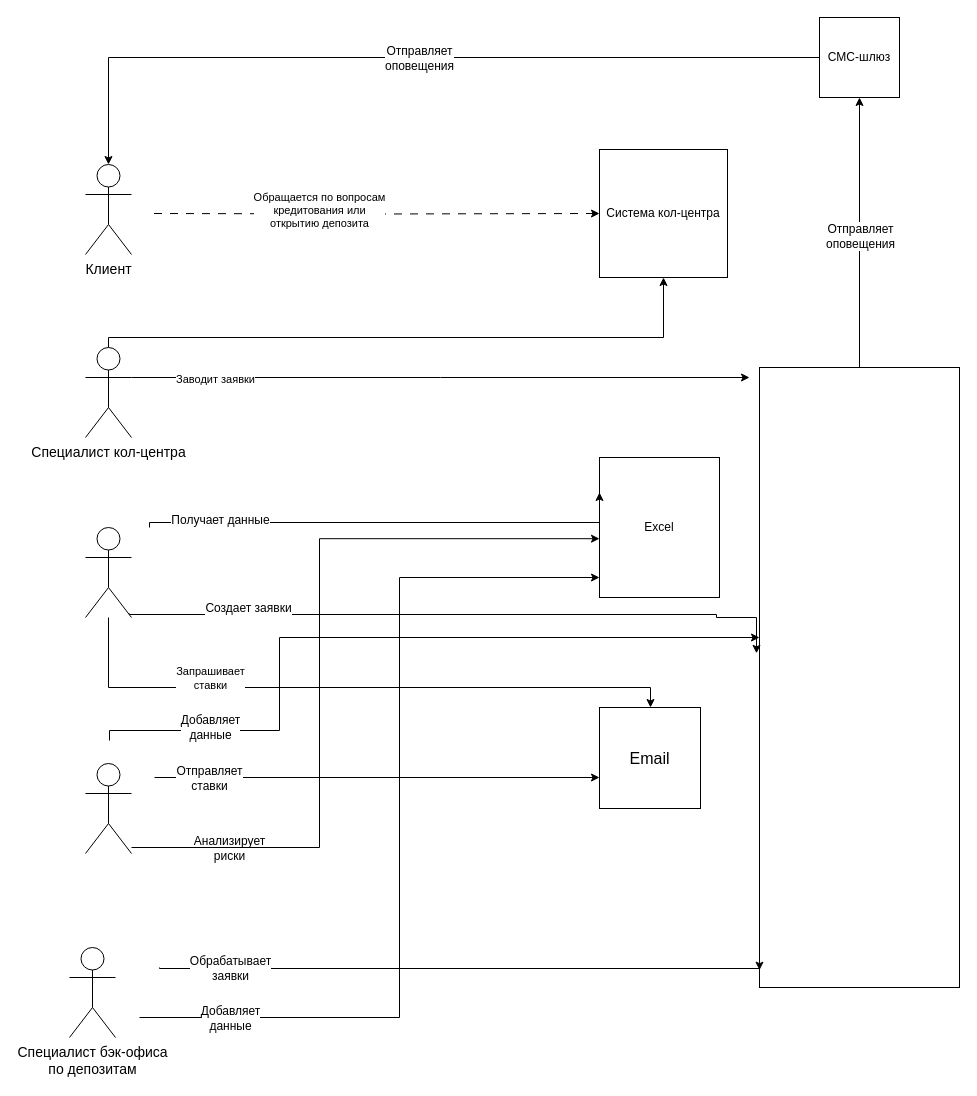
This 977x1096 diagram has some shape labels left out. Each missing label, with the box of its shape:
АБС: (758, 366, 960, 988)
Специалист бэк-офиса по кредитам: (84, 762, 132, 854)
Специалист фронт-офиса: (84, 526, 132, 618)
